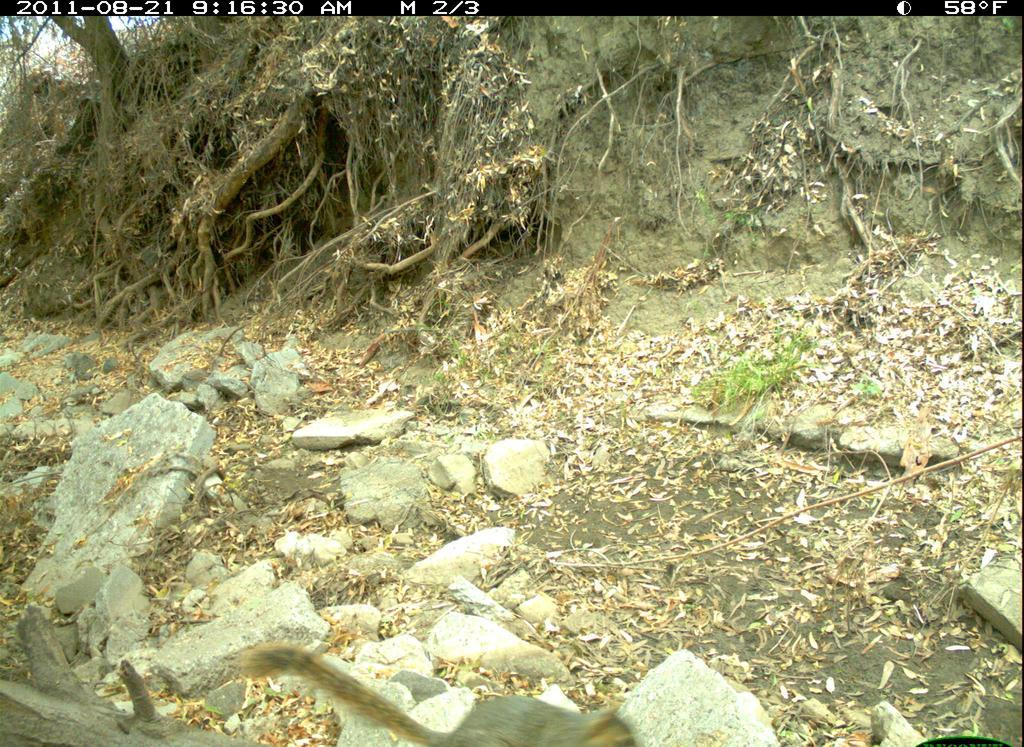squirrel: (207, 631, 658, 747)
